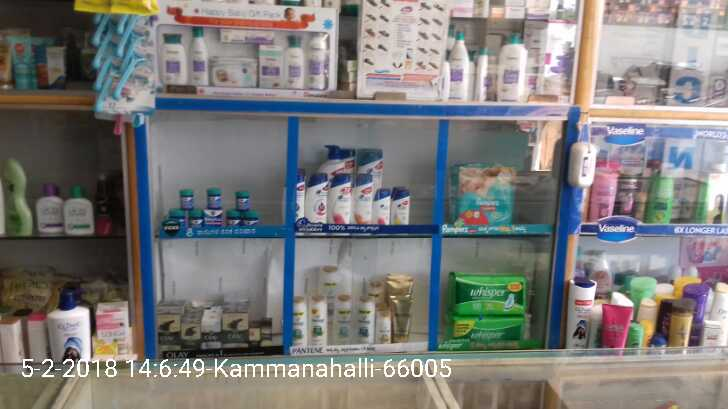beauty: (385, 272, 411, 343), (352, 171, 374, 224), (329, 173, 351, 223), (155, 309, 180, 353), (336, 291, 356, 345), (354, 294, 375, 345), (307, 296, 325, 350), (307, 171, 326, 219), (222, 316, 250, 348), (369, 189, 390, 231), (392, 184, 411, 229), (291, 294, 305, 346), (180, 319, 200, 350), (203, 318, 221, 349)
pharmacy: (450, 158, 521, 226), (449, 272, 529, 316), (452, 314, 528, 343), (205, 187, 223, 210), (204, 205, 223, 225), (188, 206, 206, 227), (226, 207, 242, 229), (177, 187, 192, 209), (234, 190, 250, 210), (242, 210, 257, 226)
